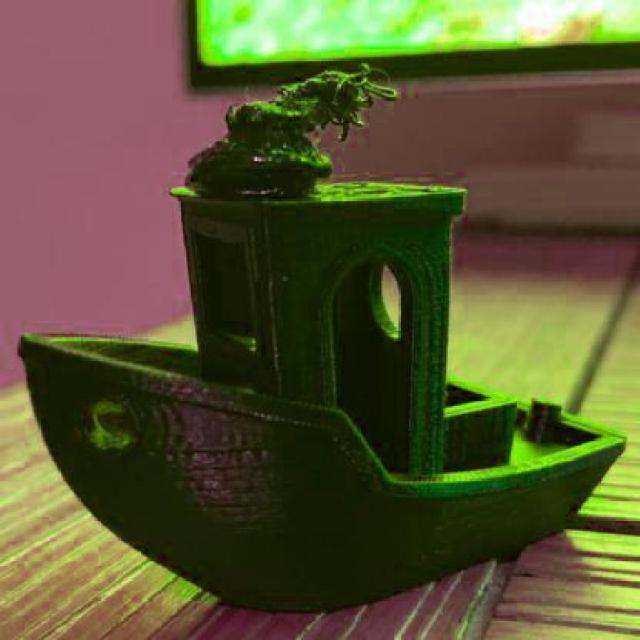spaghetti: (277, 61, 400, 144)
